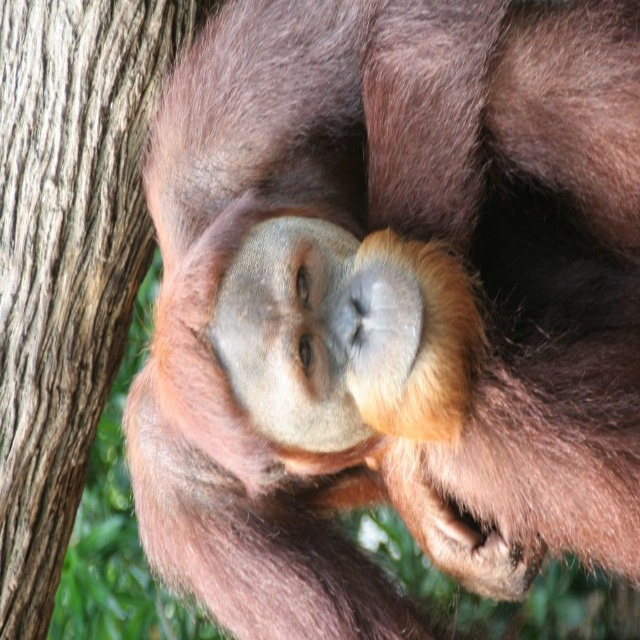Monkey: (117, 0, 640, 640)
